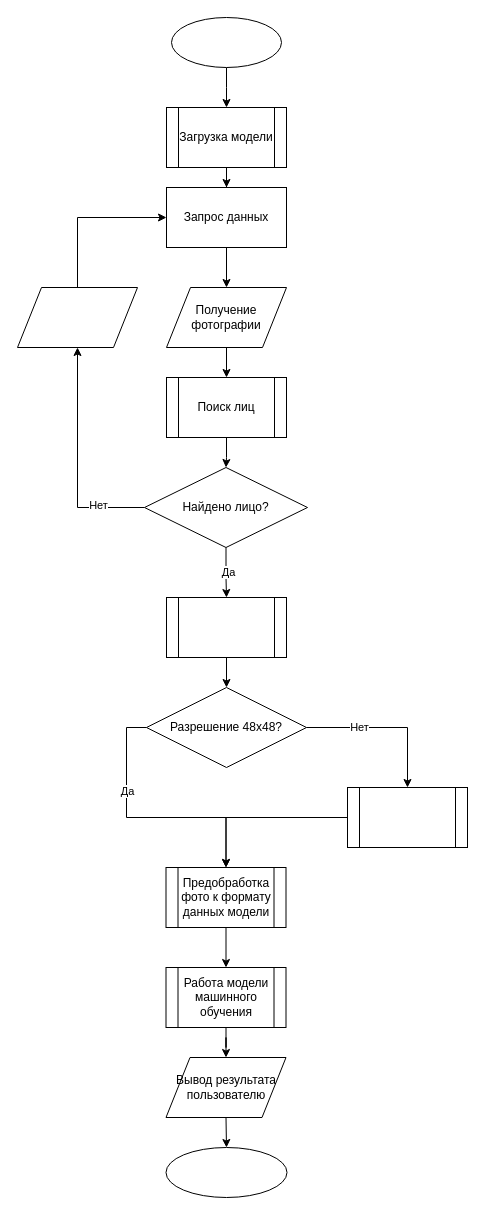
Some shapes in this 485 by 1215 pixel diagram are drawn without their labels. Here are the shapes that lost their labels. From the top down, the centre of each, then its label:
[226,42]: Начало работы
[77,317]: Вывод сообщения о фотографии без лица
[226,627]: Сохранение исходного лица
[407,817]: Меняем разрешение фотографии
[226,1172]: Конец работы
